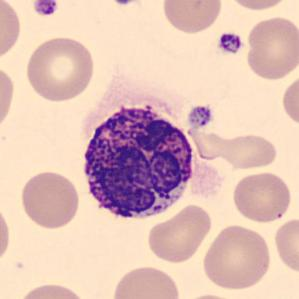Basophil: (75, 91, 203, 229)
Platelets: (185, 104, 214, 130), (216, 30, 244, 55), (32, 0, 60, 18), (108, 0, 140, 7)
RBC: (24, 33, 98, 104), (200, 221, 273, 292), (144, 203, 214, 264), (18, 168, 82, 231), (243, 13, 298, 82), (230, 170, 293, 224), (109, 263, 183, 299), (219, 131, 279, 170), (160, 0, 224, 36), (272, 216, 299, 275), (0, 0, 23, 63), (15, 280, 89, 299), (0, 62, 17, 134), (280, 72, 298, 128), (0, 201, 13, 267), (223, 0, 293, 12), (178, 291, 243, 299)
